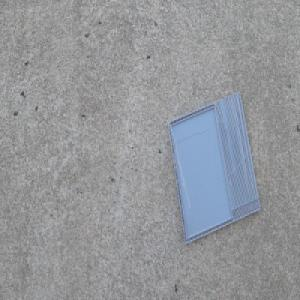PlasticPart: (167, 90, 261, 245)
